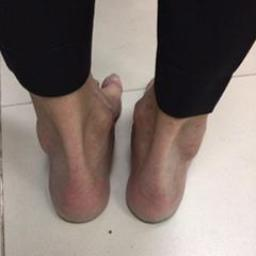Back View -Both Feet-: (14, 62, 220, 228)
